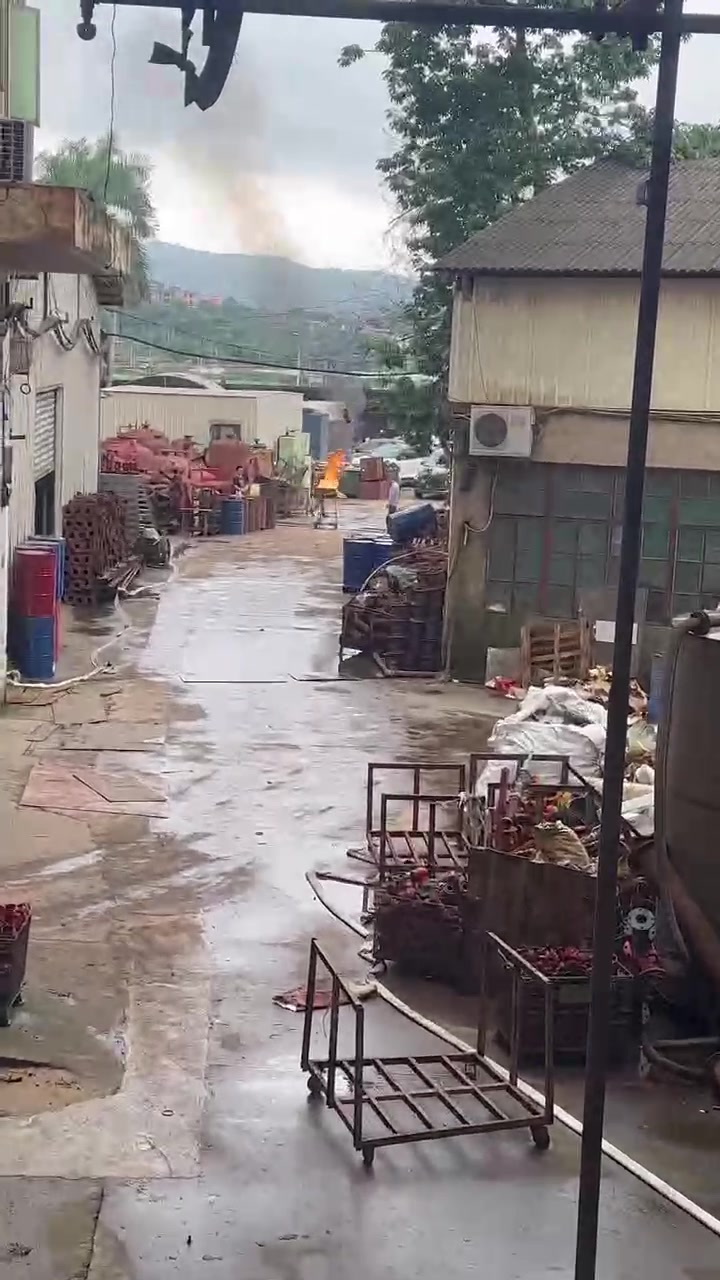fire: (316, 451, 341, 487)
